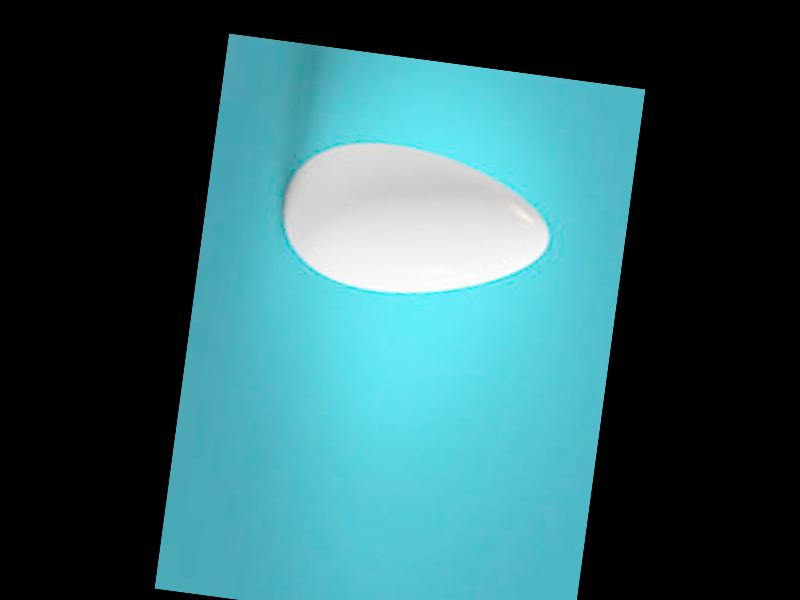Eggs: (274, 130, 556, 312)
